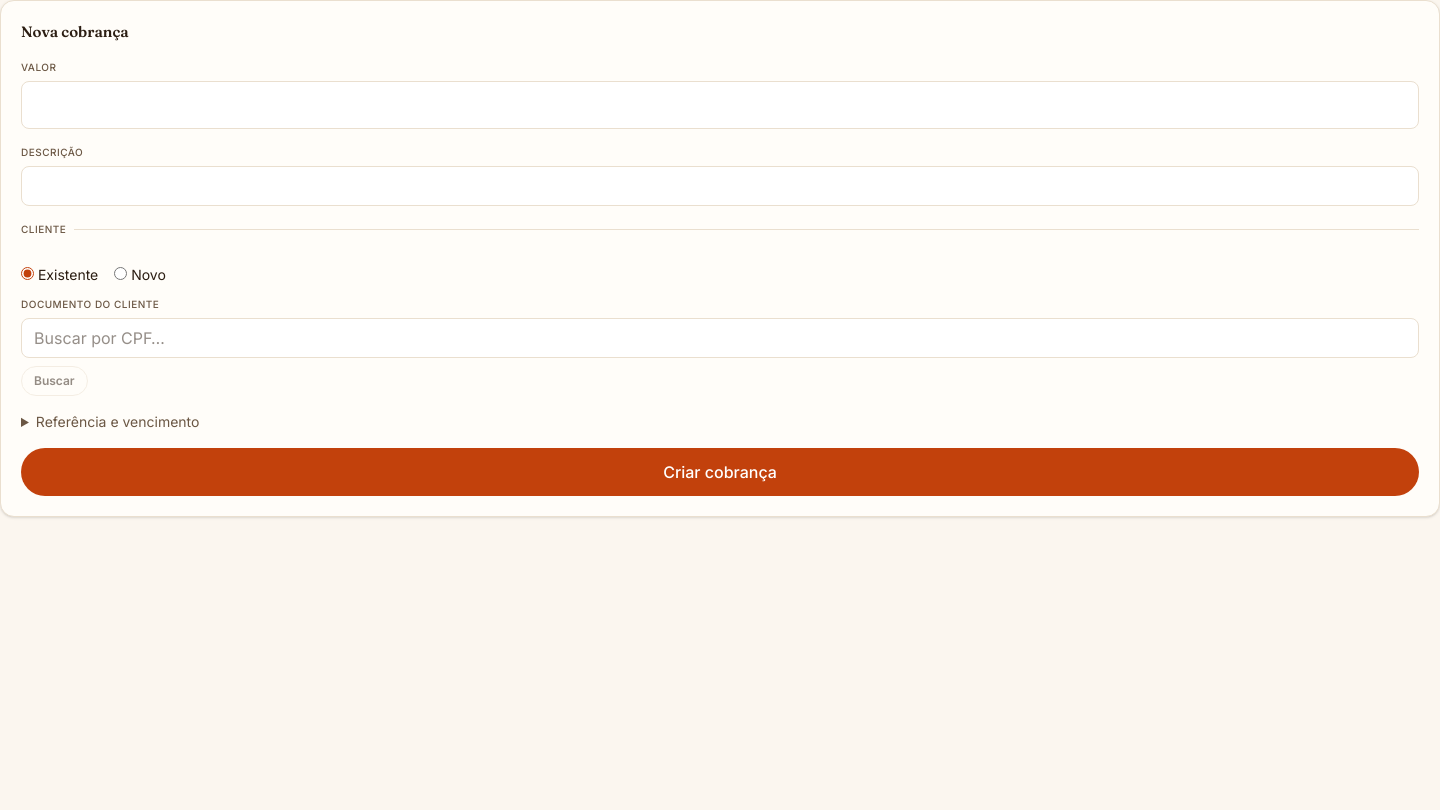
NewOrderForm › refusesAnEmptyAmountBeforeTheRequest
The image size is (1440, 810).
Click the button "Criar cobrança": point(720, 472) [21,448,1419,496]
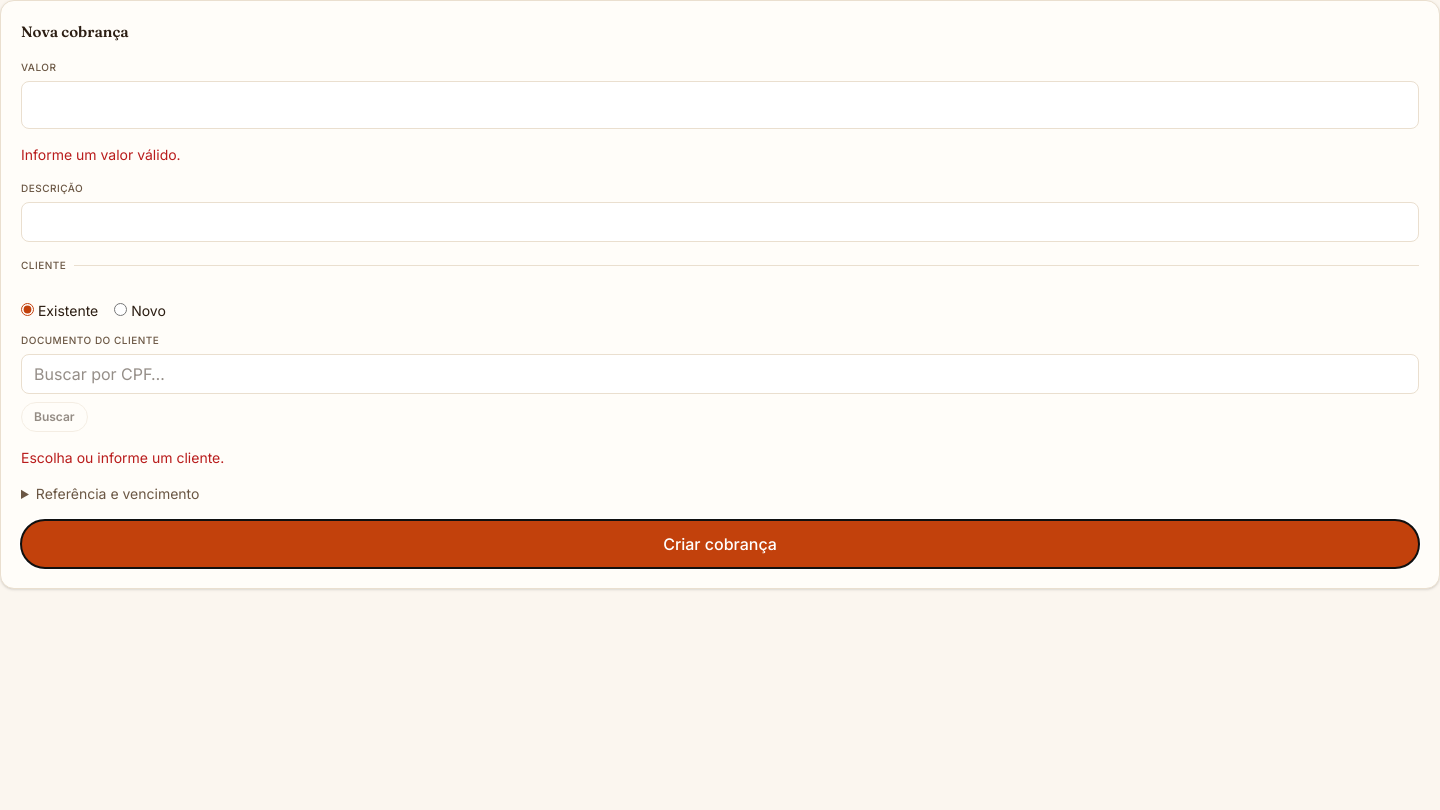
Check: the text "Informe um valor válido." is shown, box [21,146,181,162]
